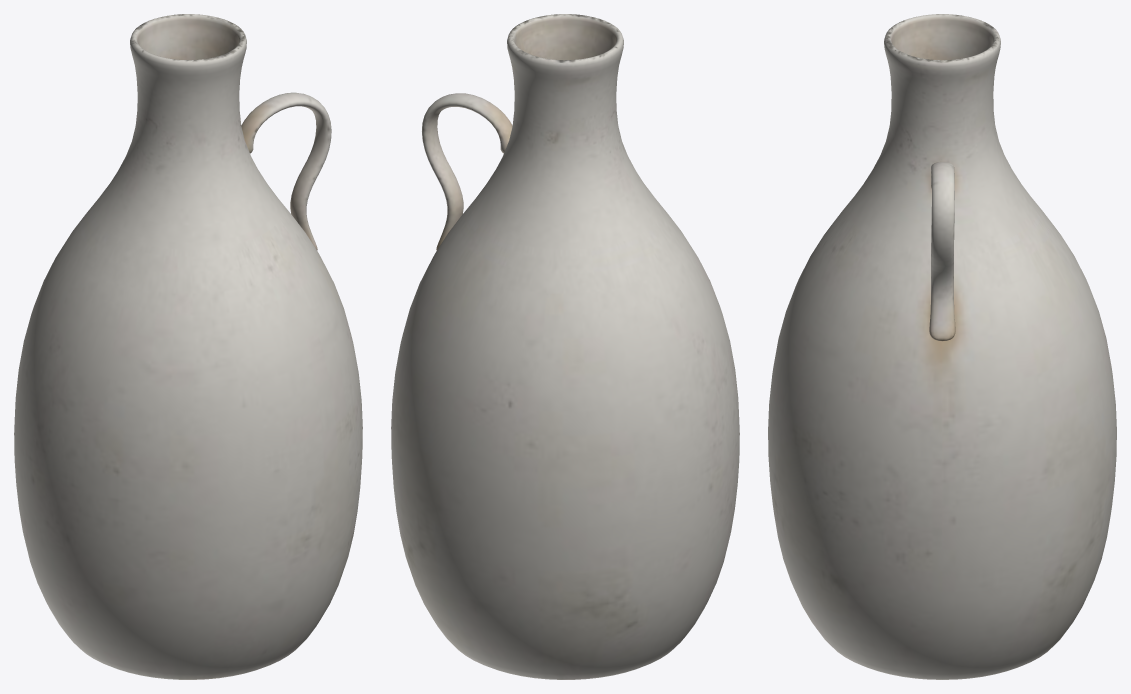
The model's file is ceramic_vase_04.glb.
3 views of the same model, side by side, from view 1: azimuth 30°, elevation 25°; view 2: azimuth 150°, elevation 25°; view 3: azimuth 270°, elevation 25° (orthographic).
Parts seen in each view (by area): view 1: ceramic_vase_04; view 2: ceramic_vase_04; view 3: ceramic_vase_04.
Boxes of the visible parts, x1,y1,x2,y2 form: ceramic_vase_04: (14,14,362,679); ceramic_vase_04: (391,14,739,679); ceramic_vase_04: (768,14,1116,679).
Size of the model in its own units: 0.1811 by 0.3419 by 0.1811.
Materials: 1 (1 with a texture image).
